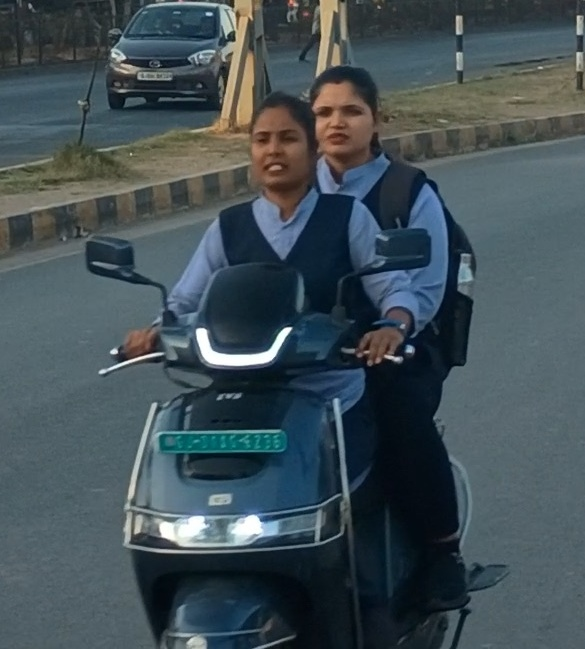BikeWithRider: (74, 59, 517, 649)
NoHelmet: (301, 60, 393, 175), (236, 86, 327, 200)
